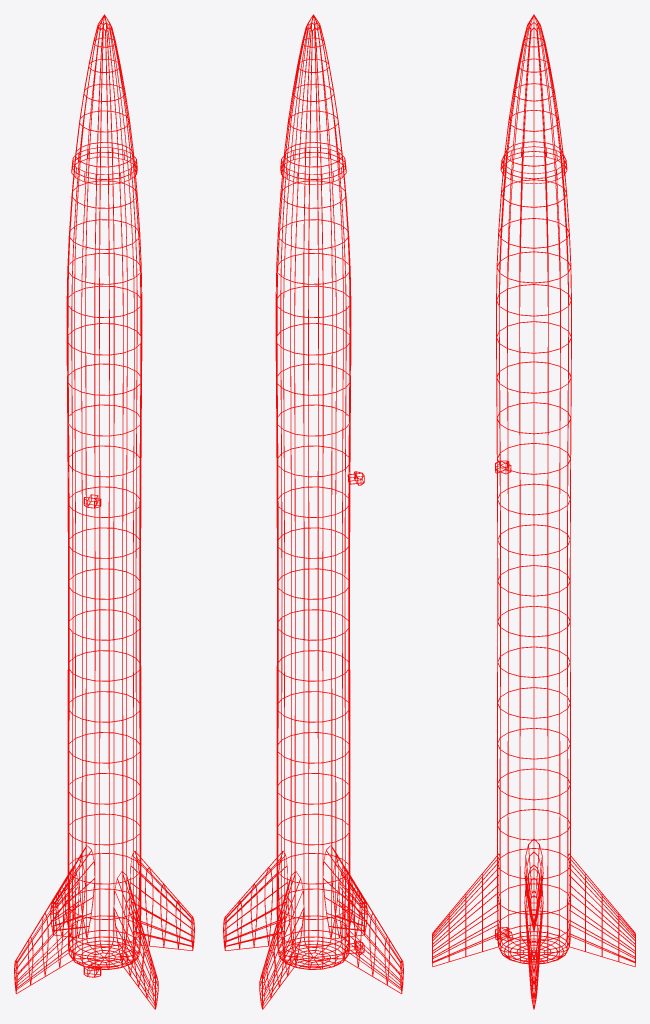
File: Cohete_Solaris_Display.glb
3 views of the same model, side by side, from view 1: azimuth 30°, elevation 25°; view 2: azimuth 150°, elevation 25°; view 3: azimuth 270°, elevation 25° (orthographic).
Visible parts, largest first — view 1: Cuerpo, Aletas, Detalle; view 2: Cuerpo, Aletas, Detalle; view 3: Cuerpo, Aletas, Detalle.
Boxes of the visible parts, left/top/right/bottom form: Cuerpo: left=66, top=14, right=142, bottom=969; Aletas: left=14, top=845, right=194, bottom=1009; Detalle: left=71, top=147, right=137, bottom=184; Cuerpo: left=275, top=14, right=351, bottom=969; Aletas: left=223, top=845, right=403, bottom=1009; Detalle: left=280, top=147, right=346, bottom=184; Cuerpo: left=496, top=14, right=571, bottom=964; Aletas: left=432, top=839, right=635, bottom=1009; Detalle: left=500, top=146, right=567, bottom=183.
Size of the model in its own units: 5.58 by 28.78 by 5.58.
